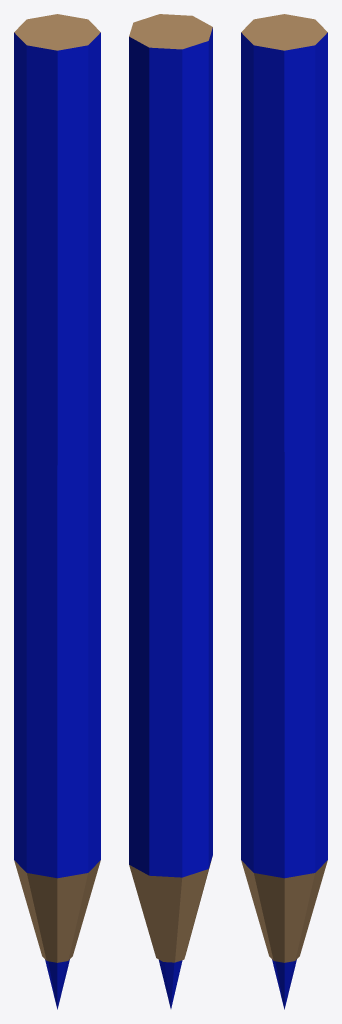
File: lapis.fbx
The picture shows the model from 3 angles, left to right: view 1: azimuth 90°, elevation 25°; view 2: azimuth 150°, elevation 25°; view 3: azimuth 270°, elevation 25°; orthographic projection.
Parts seen in each view (by area): view 1: Lapis; view 2: Lapis; view 3: Lapis.
Boxes of the visible parts, x1,y1,x2,y2 form: Lapis: [14, 14, 100, 1009]; Lapis: [129, 14, 212, 1008]; Lapis: [241, 14, 327, 1009].
Bounding box in the file's own units: 76.78 × 953 × 76.78.
